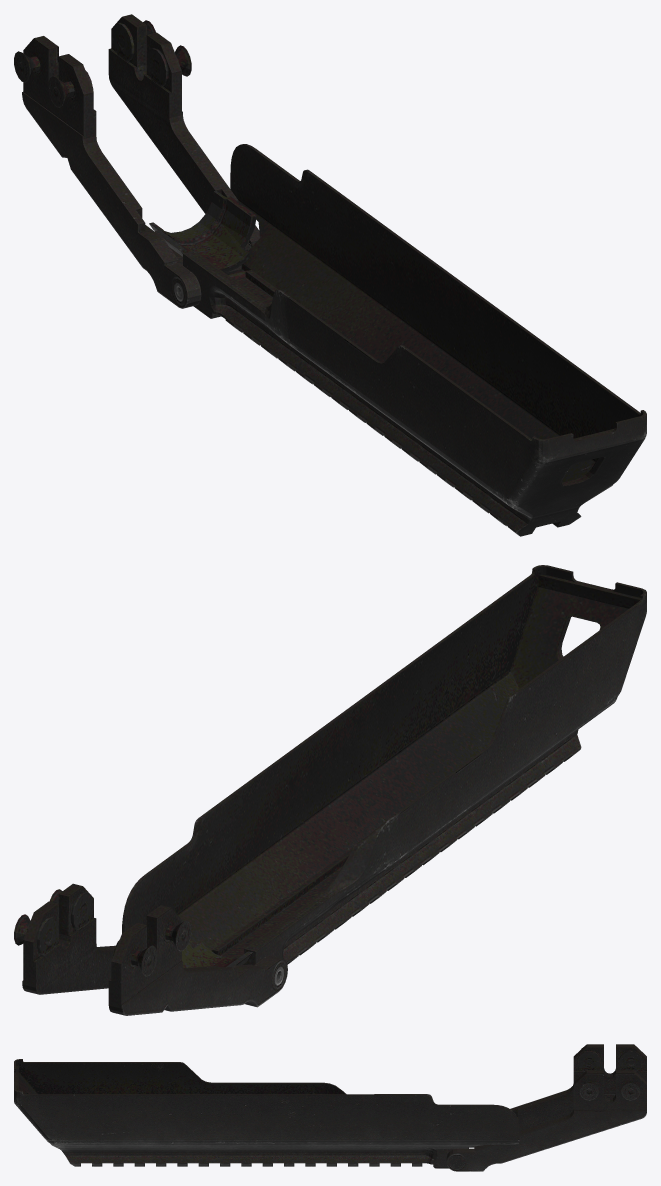
The picture shows the model from 3 angles, top to bottom: view 1: azimuth 30°, elevation 25°; view 2: azimuth 150°, elevation 25°; view 3: azimuth 270°, elevation 25°; orthographic projection. The views are drawn at different scales.
Visible parts, largest first — view 1: TW_5649af884bdc2d1b2b8b4589_PZ_Import; view 2: TW_5649af884bdc2d1b2b8b4589_PZ_Import; view 3: TW_5649af884bdc2d1b2b8b4589_PZ_Import.
Part boxes in pixels (box(x1,y1,x2,y2)): TW_5649af884bdc2d1b2b8b4589_PZ_Import: box(14, 14, 646, 536); TW_5649af884bdc2d1b2b8b4589_PZ_Import: box(14, 565, 646, 1015); TW_5649af884bdc2d1b2b8b4589_PZ_Import: box(14, 1044, 646, 1171).
Size of the model in its own units: 0.0242 by 0.1717 by 0.0301.
Materials: 1 (1 with a texture image).
